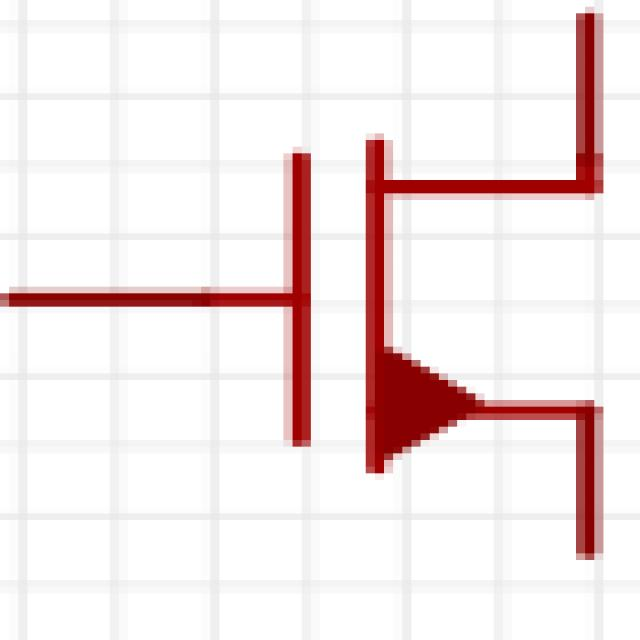nmos: (33, 20, 623, 586)
